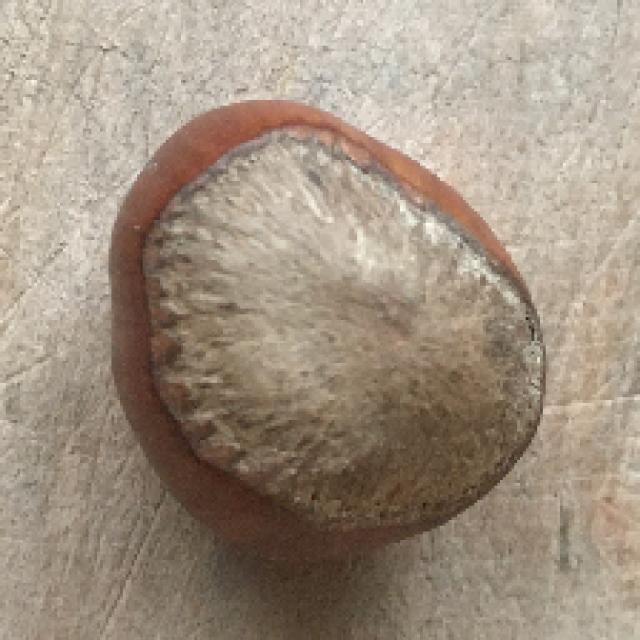qualityHazelnut: (113, 98, 548, 557)
